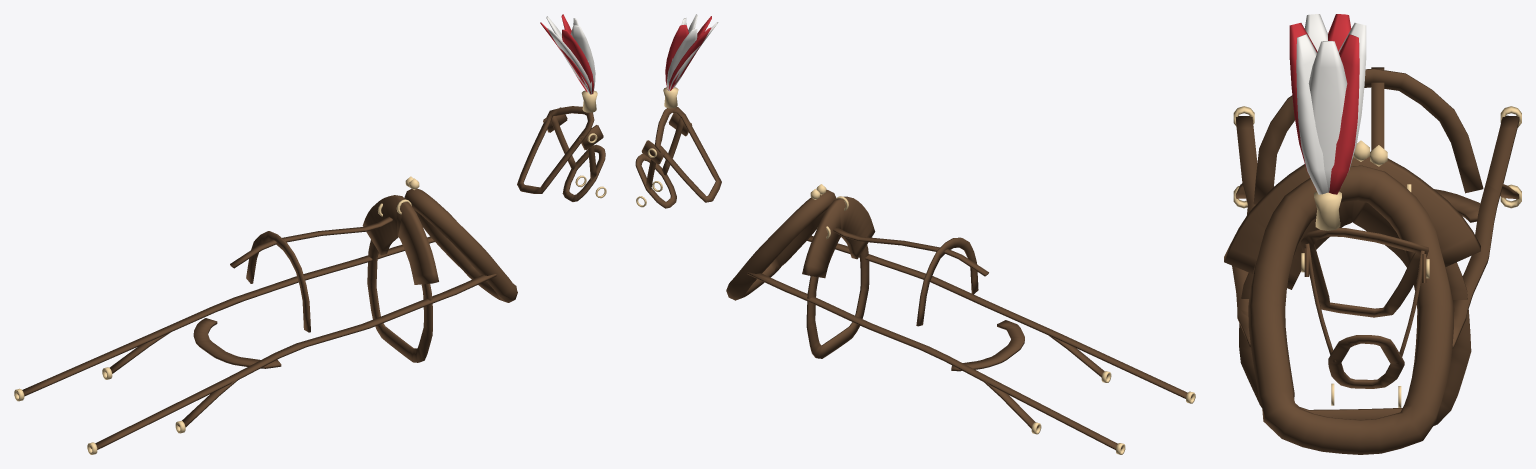
File: visitor_harness.glb
3 renders of one model, left to right at view 1: azimuth 30°, elevation 25°; view 2: azimuth 150°, elevation 25°; view 3: azimuth 270°, elevation 25°, orthographic. The views are drawn at different scales.
Parts seen in each view (by area): view 1: Harness_root_Leather, Harness_root_traces_lead, Harness_neck1_Leather, Harness_root_traces_wheel, Harness_spine_Leather, Harness_head_Leather, Harness_head_plume_Plume, Harness_head_plume_PlumeRed; view 2: Harness_root_Leather, Harness_root_traces_lead, Harness_neck1_Leather, Harness_root_traces_wheel, Harness_spine_Leather, Harness_head_Leather, Harness_head_plume_PlumeRed, Harness_head_plume_Plume; view 3: Harness_neck1_Leather, Harness_root_Leather, Harness_head_plume_Plume, Harness_spine_Leather, Harness_head_Leather, Harness_root_traces_lead, Harness_head_plume_PlumeRed, Harness_root_traces_wheel, Harness_head_plume_socket, Harness_neck1_Brass, Harness_head_Brass.
Boxes of the visible parts, bbox=[...] form: Harness_root_Leather: bbox=[362, 195, 438, 362]; Harness_root_traces_lead: bbox=[14, 236, 496, 454]; Harness_neck1_Leather: bbox=[404, 188, 517, 302]; Harness_root_traces_wheel: bbox=[102, 237, 491, 433]; Harness_spine_Leather: bbox=[193, 217, 392, 368]; Harness_head_Leather: bbox=[517, 106, 605, 201]; Harness_head_plume_Plume: bbox=[546, 16, 595, 94]; Harness_head_plume_PlumeRed: bbox=[540, 14, 593, 94]; Harness_root_Leather: bbox=[802, 196, 875, 358]; Harness_root_traces_lead: bbox=[749, 235, 1195, 454]; Harness_neck1_Leather: bbox=[726, 189, 836, 300]; Harness_root_traces_wheel: bbox=[747, 238, 1111, 434]; Harness_spine_Leather: bbox=[833, 227, 1024, 371]; Harness_head_Leather: bbox=[635, 107, 721, 208]; Harness_head_plume_PlumeRed: bbox=[665, 16, 711, 90]; Harness_head_plume_Plume: bbox=[667, 14, 718, 91]; Harness_neck1_Leather: bbox=[1248, 165, 1454, 454]; Harness_root_Leather: bbox=[1224, 156, 1480, 425]; Harness_head_plume_Plume: bbox=[1296, 14, 1366, 194]; Harness_spine_Leather: bbox=[1253, 67, 1483, 222]; Harness_head_Leather: bbox=[1301, 228, 1428, 388]; Harness_root_traces_lead: bbox=[1233, 106, 1521, 348]; Harness_head_plume_PlumeRed: bbox=[1289, 14, 1359, 194]; Harness_root_traces_wheel: bbox=[1232, 183, 1521, 347]; Harness_head_plume_socket: bbox=[1314, 191, 1341, 230]; Harness_neck1_Brass: bbox=[1353, 140, 1387, 166]; Harness_head_Brass: bbox=[1301, 253, 1429, 407].
Size of the model in its own units: 3.1 by 1.61 by 0.8023.
